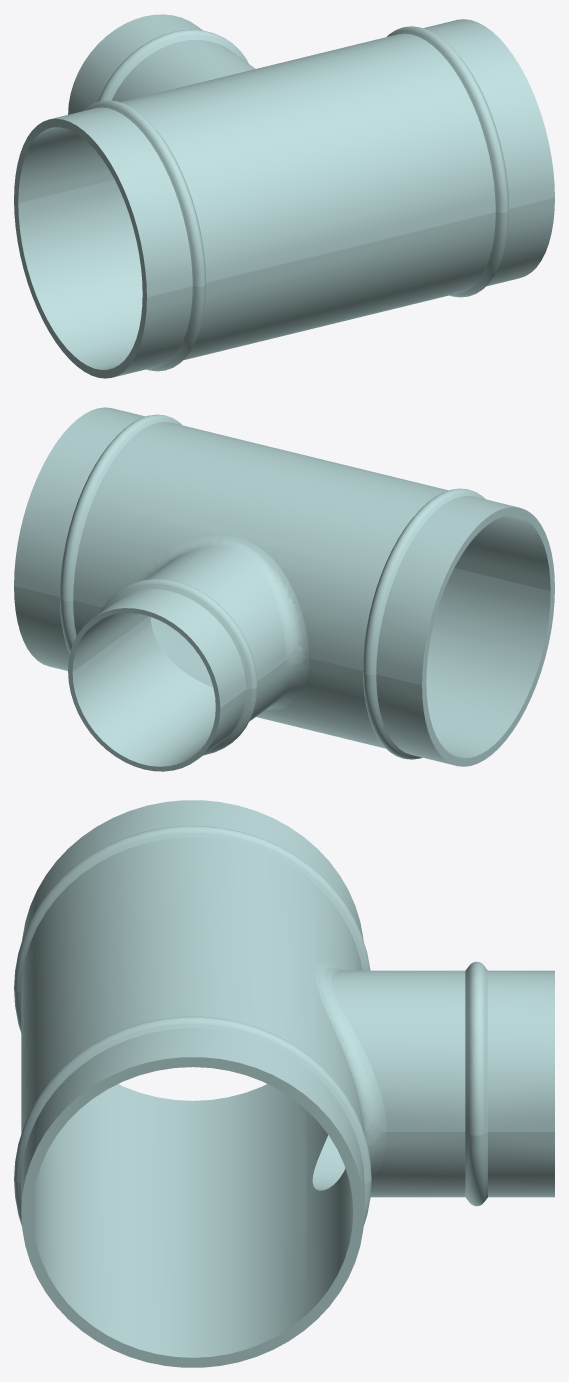
The picture shows the model from 3 angles, top to bottom: view 1: azimuth 30°, elevation 25°; view 2: azimuth 150°, elevation 25°; view 3: azimuth 270°, elevation 25°; orthographic projection. The views are drawn at different scales.
Size of the model in its own units: 272 by 160 by 242.
